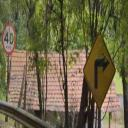speed_limit_40: (2, 21, 16, 56)
